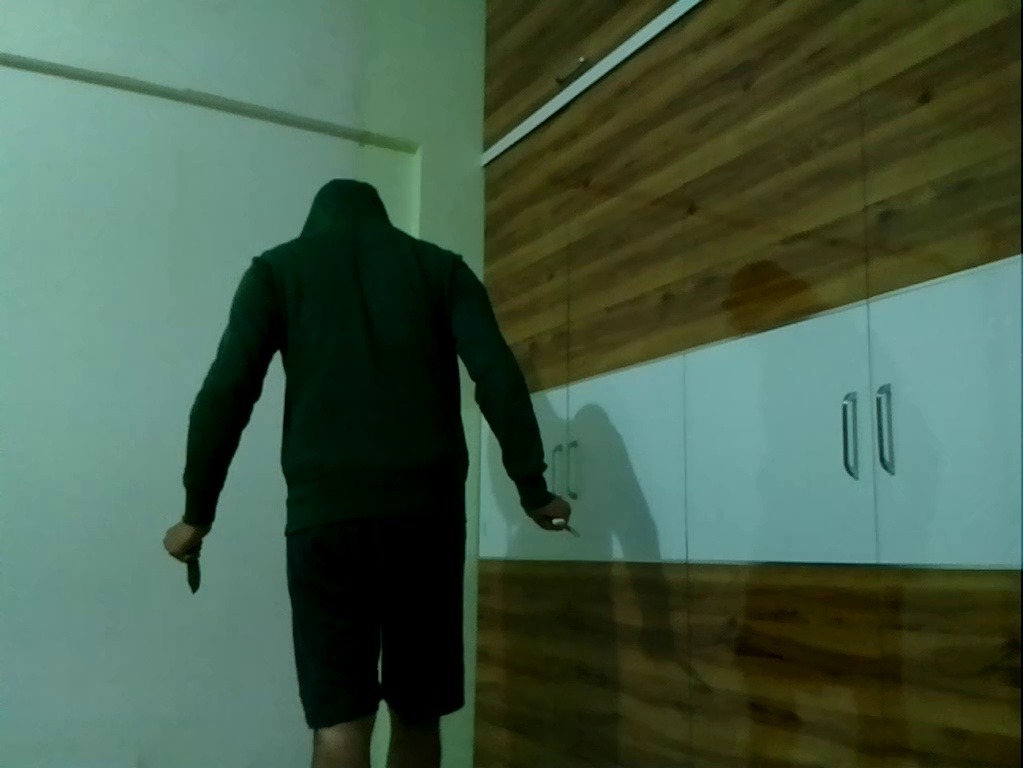knife: (172, 535, 224, 628)
